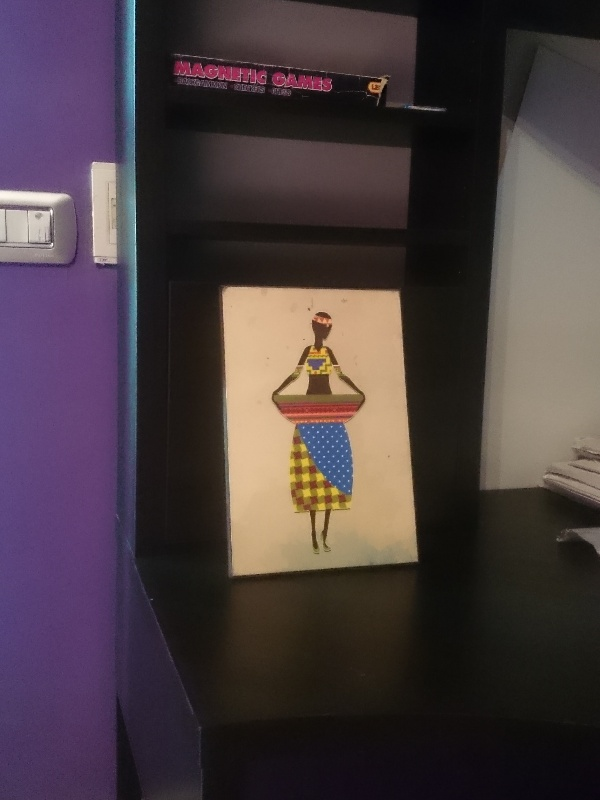my image: (218, 286, 418, 577)
